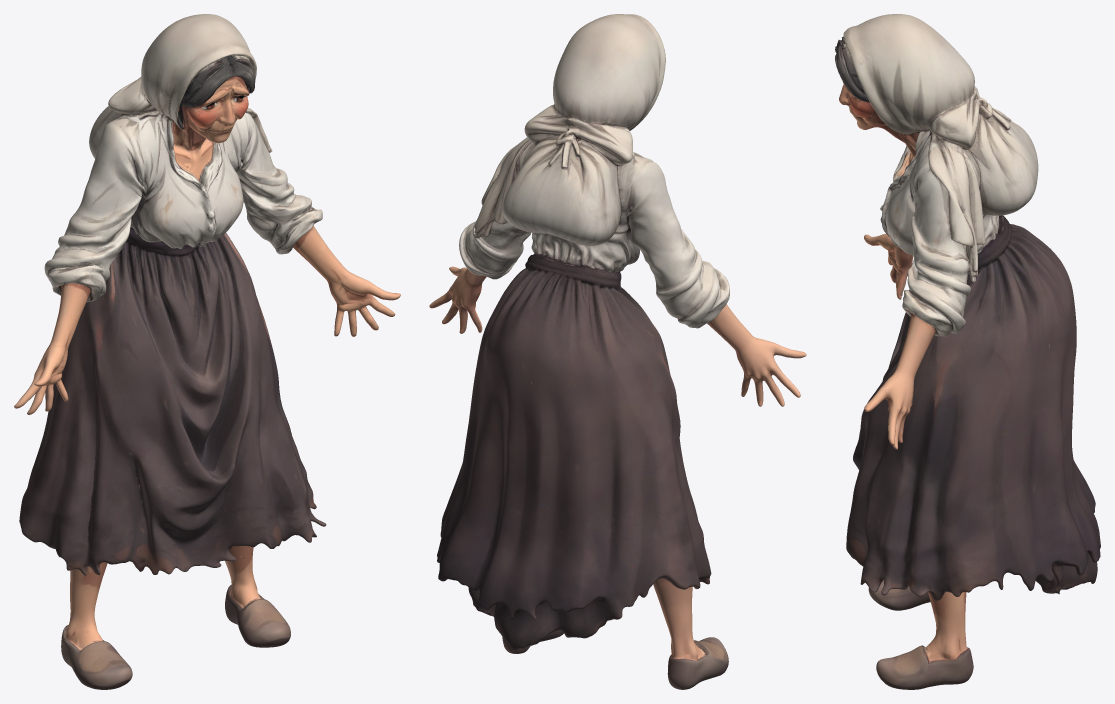
File: Meshy_AI_Weary_Peasant_Woman_0319014801_texture.glb
3 renders of one model, left to right at view 1: azimuth 30°, elevation 25°; view 2: azimuth 150°, elevation 25°; view 3: azimuth 270°, elevation 25°, orthographic. The views are drawn at different scales.
Size of the model in its own units: 1.18 by 1.9 by 0.7276.
1 material, 1 textured.
